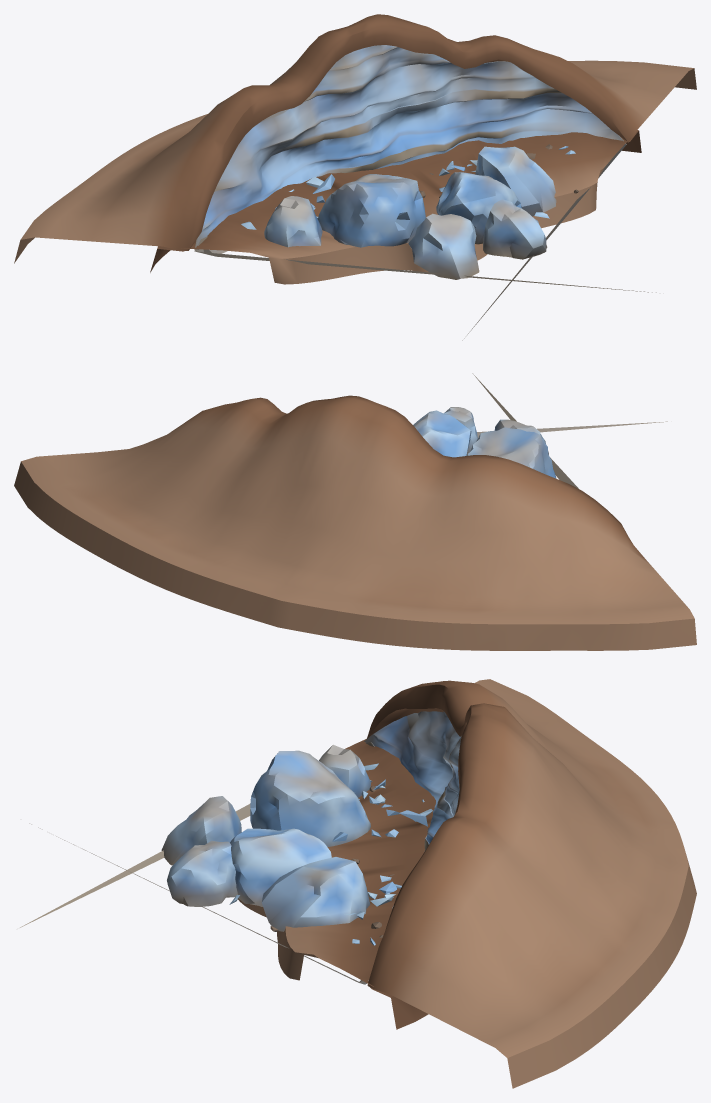
File: ice_outcrop.glb
The picture shows the model from 3 angles, top to bottom: view 1: azimuth 30°, elevation 25°; view 2: azimuth 150°, elevation 25°; view 3: azimuth 270°, elevation 25°; orthographic projection. The views are drawn at different scales.
Parts seen in each view (by area): view 1: ice_outcrop_mesh, block_0_mesh, block_3_mesh, block_2_mesh, block_1_mesh, block_5_mesh, block_4_mesh; view 2: ice_outcrop_mesh, block_0_mesh, block_1_mesh, block_5_mesh; view 3: ice_outcrop_mesh, block_0_mesh, block_2_mesh, block_1_mesh, block_5_mesh, block_3_mesh, block_4_mesh.
Boxes of the visible parts, left/top/right/bottom form: ice_outcrop_mesh: left=14, top=14, right=696, bottom=340; block_0_mesh: left=318, top=174, right=425, bottom=247; block_3_mesh: left=408, top=213, right=479, bottom=279; block_2_mesh: left=475, top=146, right=556, bottom=216; block_1_mesh: left=436, top=172, right=521, bottom=244; block_5_mesh: left=483, top=199, right=547, bottom=259; block_4_mesh: left=264, top=196, right=322, bottom=247; ice_outcrop_mesh: left=14, top=373, right=696, bottom=650; block_0_mesh: left=467, top=427, right=556, bottom=478; block_1_mesh: left=413, top=410, right=471, bottom=457; block_5_mesh: left=444, top=407, right=477, bottom=455; ice_outcrop_mesh: left=20, top=679, right=696, bottom=1088; block_0_mesh: left=250, top=750, right=370, bottom=846; block_2_mesh: left=261, top=857, right=370, bottom=931; block_1_mesh: left=230, top=828, right=331, bottom=906; block_5_mesh: left=167, top=840, right=237, bottom=906; block_3_mesh: left=161, top=796, right=241, bottom=865; block_4_mesh: left=319, top=744, right=371, bottom=797.
Bounding box in the file's own units: 8.48 × 1.89 × 6.37.
